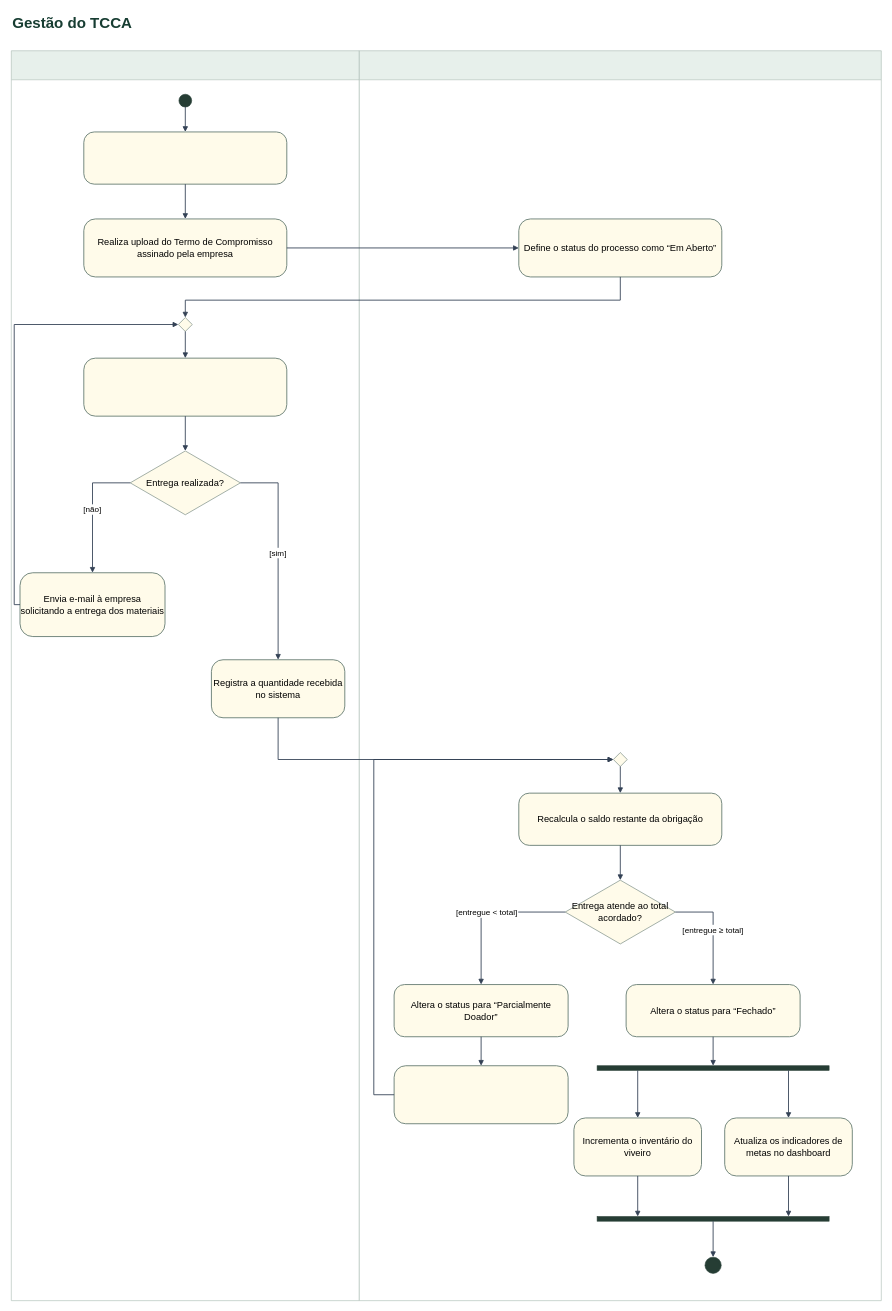
Some shapes in this 892 by 1311 pixel diagram are drawn without their labels. Here are the shapes that lost their labels. From the top down, the box of each, then its label:
(83, 131, 287, 184): Cadastra os dados da empresa licenciada
(83, 357, 287, 416): Confere se a empresa realizou a entrega física de mudas ou insumos
(11, 50, 359, 1301): Funcionário AMMA
(359, 50, 881, 1301): Sistema
(393, 1065, 568, 1124): Notifica a empresa de que ainda há insumos faltando
